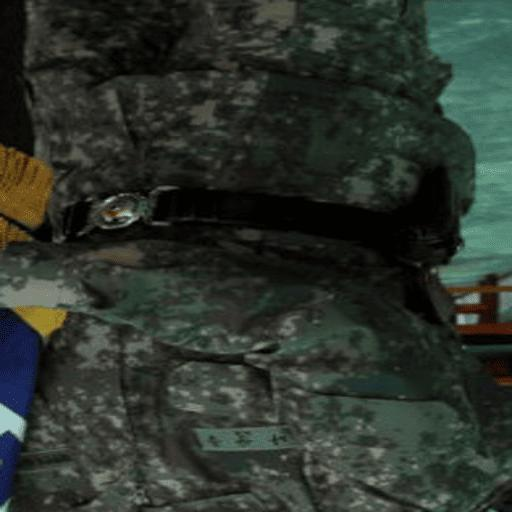korea army: (1, 1, 510, 510), (2, 1, 507, 506)
